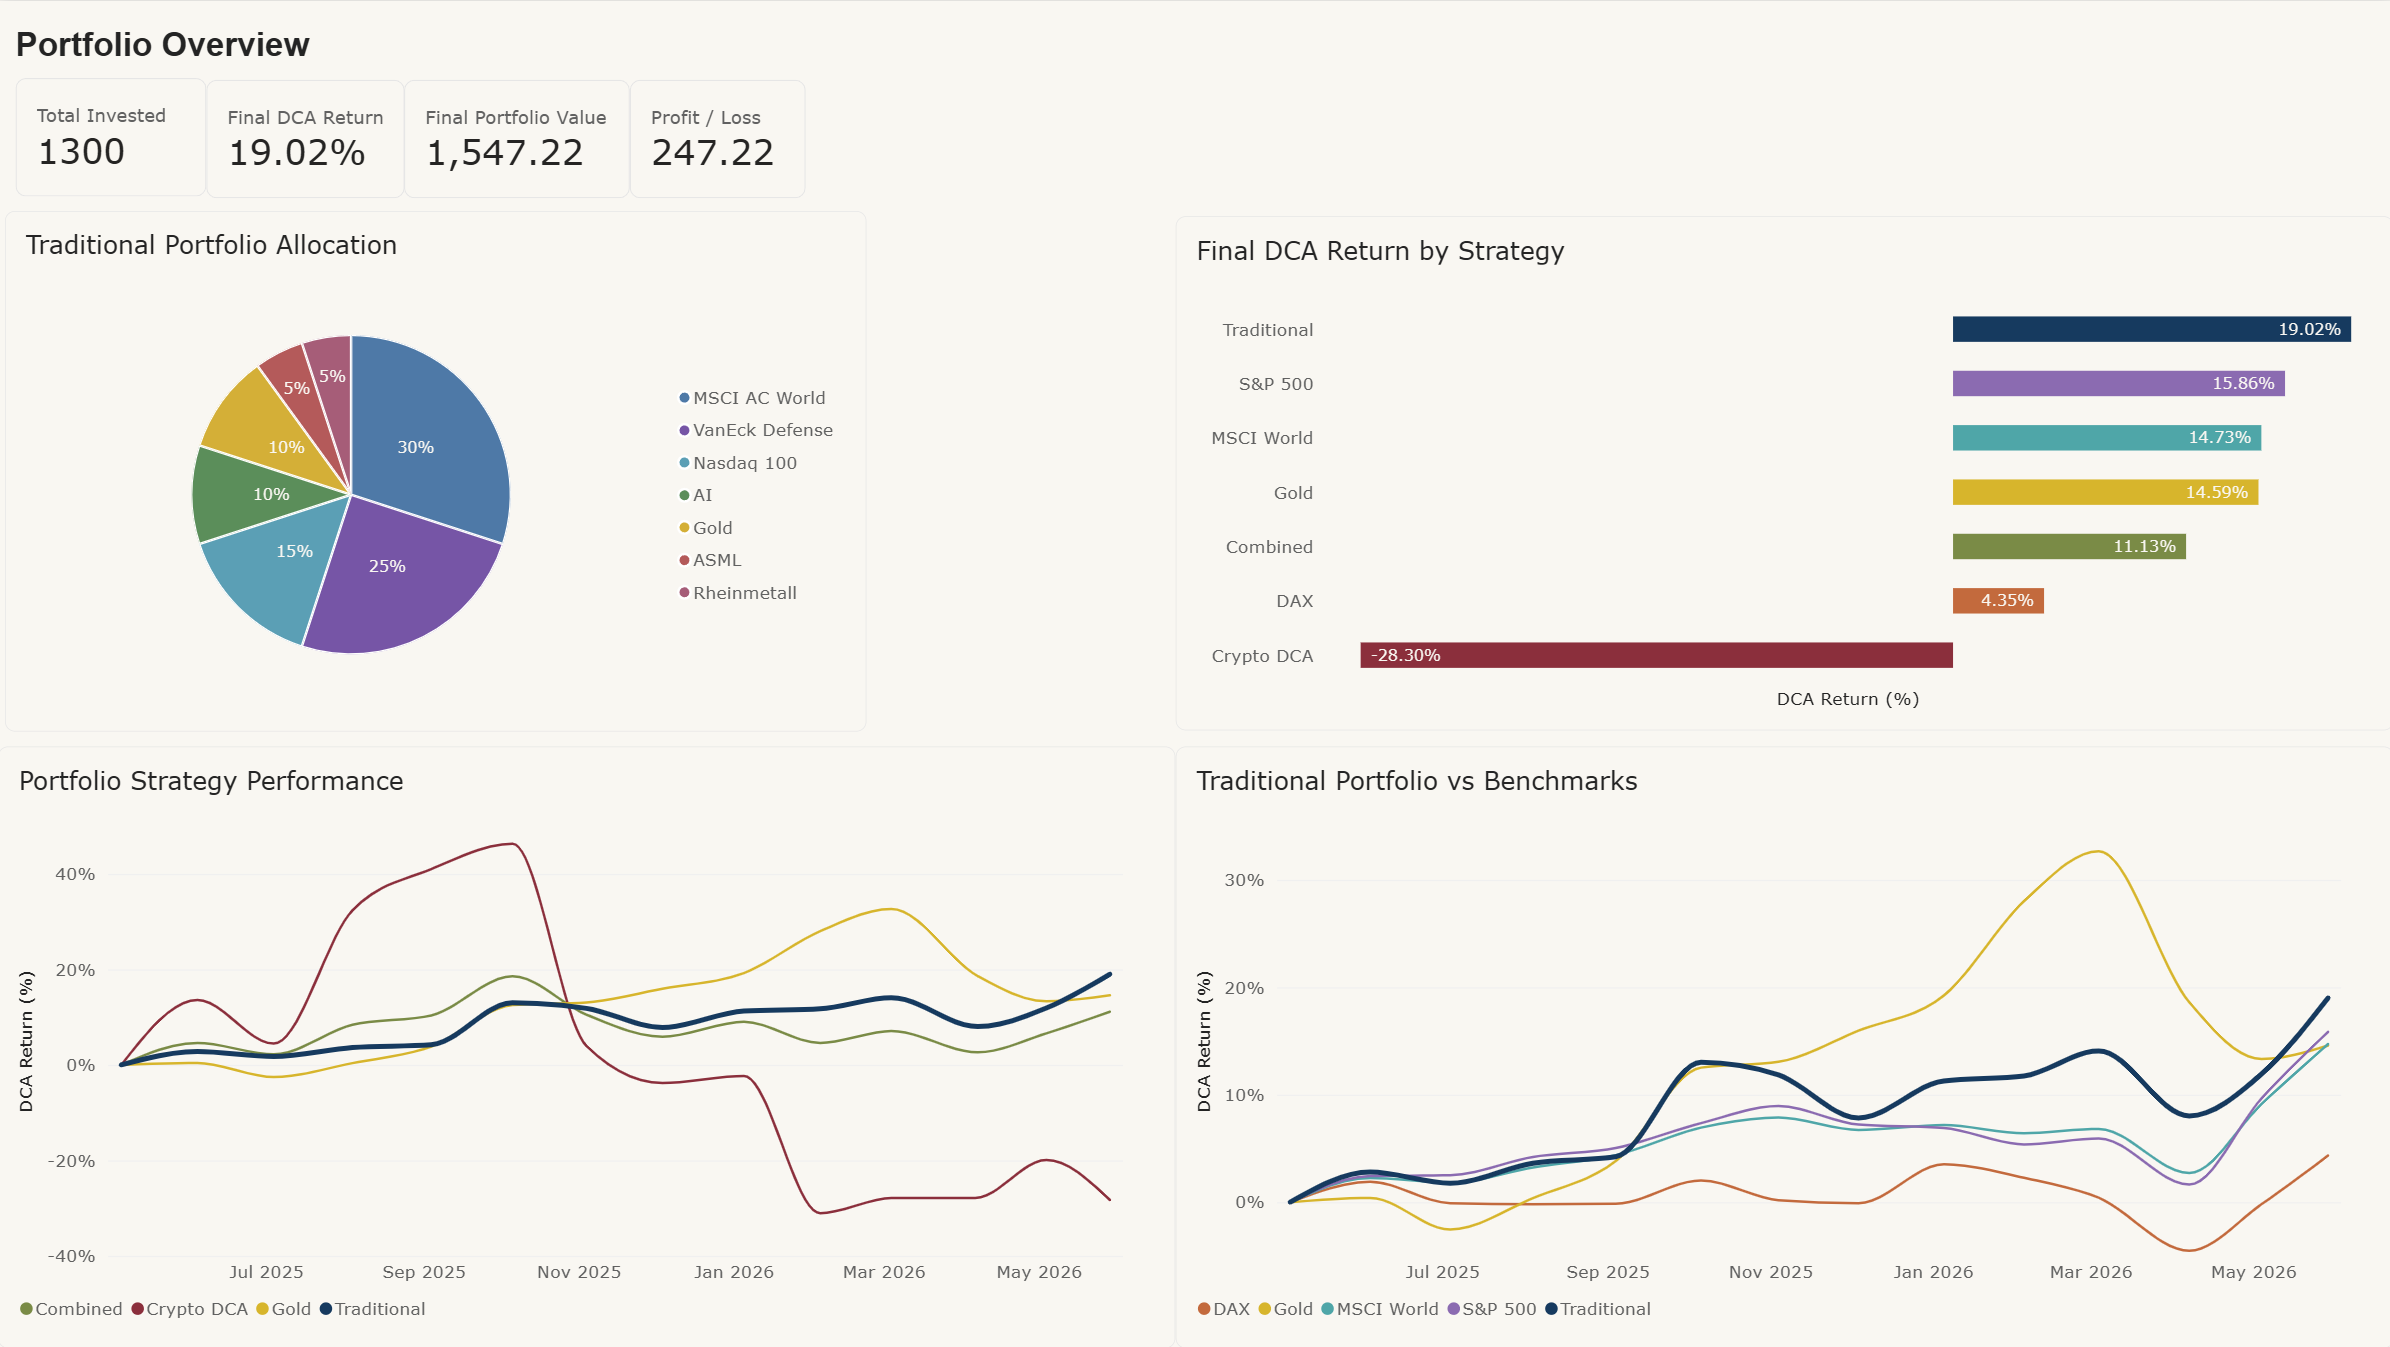

This screenshot's page, from the dashboard's own definition file:
{"tool":"powerbi","page":{"name":"Portfolio Overview","canvas":[1920,1080],"ordinal":0},"visuals":[{"type":"textbox","box":[14,19.6,280.8,44.6],"z":0},{"type":"cardVisual","fields":{"Data":["_Measures.Final DCA Return"]},"box":[166.4,62.5,159.1,95.2],"z":1000},{"type":"cardVisual","fields":{"Data":["_Measures.Final Portfolio Value"]},"box":[324.9,62.5,182,95.2],"z":2000},{"type":"cardVisual","fields":{"Data":["_Measures.Profit / Loss"]},"box":[506.9,62.5,141,95.2],"z":3000},{"type":"cardVisual","fields":{"Data":["_Measures.Total Invested"]},"box":[13.4,61.4,153.1,95.2],"z":4000},{"type":"lineChart","title":"Traditional Portfolio vs Benchmarks","fields":{"Category":["dim_date.Date"],"Series":["dim_strategy.StrategyShortName"],"Y":["_Measures.DCA Return %"]},"box":[943.5,597.3,975.8,482.3],"z":5000},{"type":"pieChart","title":"Traditional Portfolio Allocation","fields":{"Category":["dim_asset.AssetShortName"],"Y":["_Measures.Traditional Allocation %"]},"box":[6,168.7,690.6,417],"z":6000},{"type":"barChart","title":"Final DCA Return by Strategy","fields":{"Category":["dim_strategy.StrategyShortName"],"Y":["_Measures.Final Return by Strategy"]},"box":[943.5,173.1,975.8,412],"z":7000},{"type":"lineChart","title":"Portfolio Strategy Performance","fields":{"Category":["dim_date.Date"],"Series":["dim_strategy.StrategyShortName"],"Y":["_Measures.DCA Return %"]},"box":[0,597.3,943.5,482.3],"z":8000}]}

Visuals, with their boxes in screenshot pixels (x1, y1, x2, y2), scaled from the page's 1920x1080 canvas onto the 2390x1347 screenshot:
textbox: Rect(17, 24, 367, 80)
cardVisual - _Measures.Final DCA Return: Rect(207, 78, 405, 197)
cardVisual - _Measures.Final Portfolio Value: Rect(404, 78, 631, 197)
cardVisual - _Measures.Profit / Loss: Rect(631, 78, 807, 197)
cardVisual - _Measures.Total Invested: Rect(17, 77, 207, 195)
"Traditional Portfolio vs Benchmarks" lineChart: Rect(1174, 745, 2389, 1346)
"Traditional Portfolio Allocation" pieChart: Rect(7, 210, 867, 730)
"Final DCA Return by Strategy" barChart: Rect(1174, 216, 2389, 730)
"Portfolio Strategy Performance" lineChart: Rect(0, 745, 1174, 1346)
